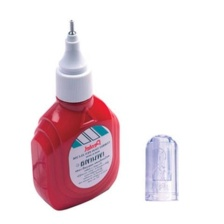correction_fluid: (28, 17, 121, 212)
